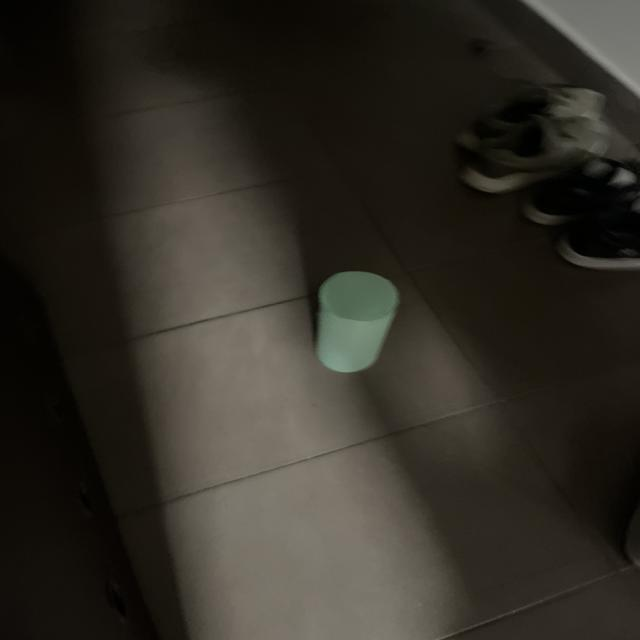meta: (316, 271, 399, 373)
